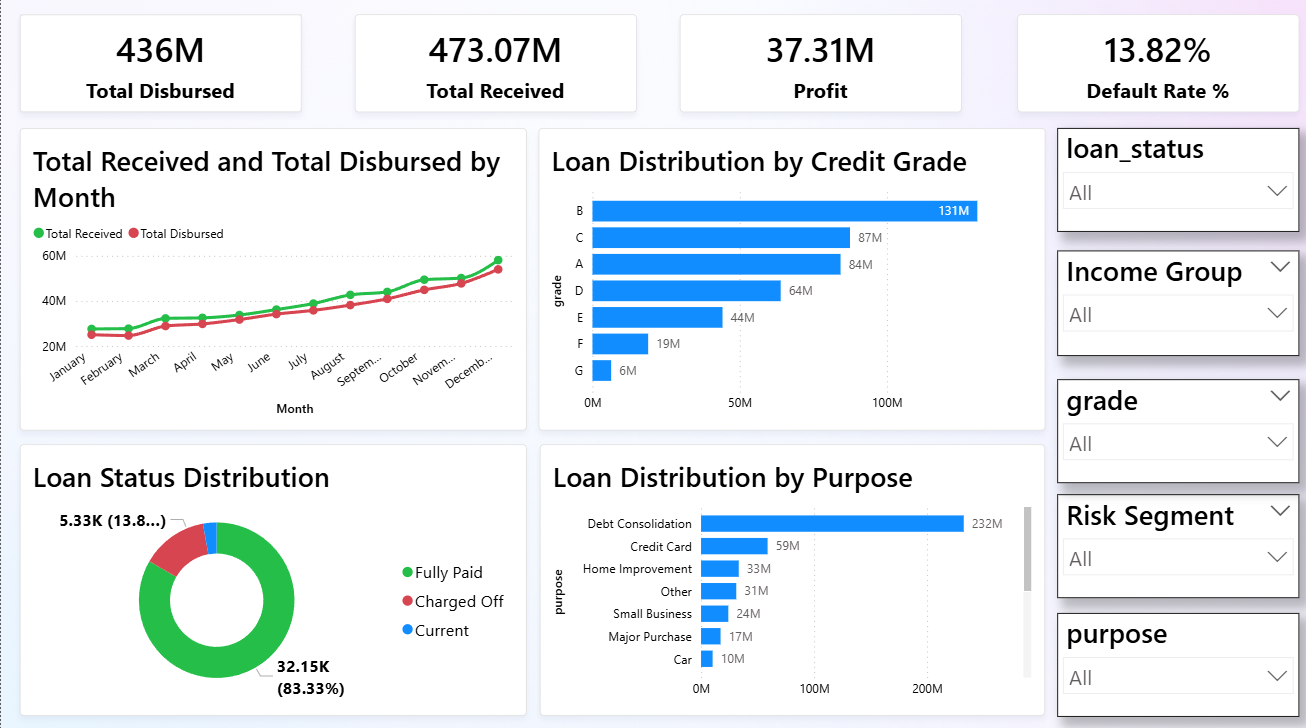

What the dashboard file says about the page in this screenshot:
{"tool":"powerbi","page":{"name":"Loan Portfolio Overview","canvas":[1280,720],"ordinal":0},"visuals":[{"type":"card","fields":{"Values":["public financial_loan.Total Disbursed"]},"box":[18.6,15.7,275.7,95.7],"z":0},{"type":"card","fields":{"Values":["public financial_loan.Total Received"]},"box":[345.7,15.7,275.7,95.7],"z":1000},{"type":"card","fields":{"Values":["public financial_loan.Profit"]},"box":[664.3,15.7,275.7,95.7],"z":2000},{"type":"card","fields":{"Values":["public financial_loan.Default Rate %"]},"box":[994.3,15.7,275.7,95.7],"z":3000},{"type":"lineChart","fields":{"Y":["public financial_loan.Total Received","public financial_loan.Total Disbursed"],"Category":["public financial_loan.issue_date.Variation.Date Hierarchy.Month"]},"box":[18.6,127.1,495.7,295.7],"z":4000},{"type":"donutChart","title":"Loan Status Distribution","fields":{"Y":["CountNonNull(public financial_loan.id)"],"Category":["public financial_loan.loan_status"]},"box":[18.6,437.1,495.7,265.7],"z":5000},{"type":"clusteredBarChart","title":"Loan Distribution by Credit Grade","fields":{"Category":["public financial_loan.grade"],"Y":["Sum(public financial_loan.loan_amount)"]},"box":[525.7,127.1,495.7,295.7],"z":6000},{"type":"clusteredBarChart","title":"Loan Distribution by Purpose","fields":{"Y":["Sum(public financial_loan.loan_amount)"],"Category":["public financial_loan.purpose"]},"box":[527.1,437.1,494.3,265.7],"z":7000},{"type":"slicer","fields":{"Values":["public financial_loan.loan_status"]},"box":[1032.9,127.1,237.1,101.4],"z":7001},{"type":"slicer","fields":{"Values":["public financial_loan.Income Group"]},"box":[1032.9,247.1,237.1,102.9],"z":7002},{"type":"slicer","fields":{"Values":["public financial_loan.Risk Segment"]},"box":[1032.9,485.7,237.1,101.4],"z":7003},{"type":"slicer","fields":{"Values":["public financial_loan.purpose"]},"box":[1032.9,601.4,237.1,101.4],"z":7004},{"type":"slicer","fields":{"Values":["public financial_loan.grade"]},"box":[1032.9,372.9,237.1,101.4],"z":7005}]}

Visuals, with their boxes in screenshot pixels (x1, y1, x2, y2), scaled from the page's 1280x720 canvas onto the 1306x728 screenshot:
card - public financial_loan.Total Disbursed: x1=19, y1=16, x2=300, y2=113
card - public financial_loan.Total Received: x1=353, y1=16, x2=634, y2=113
card - public financial_loan.Profit: x1=678, y1=16, x2=959, y2=113
card - public financial_loan.Default Rate %: x1=1014, y1=16, x2=1296, y2=113
lineChart - public financial_loan.Total Received x public financial_loan.Total Disbursed: x1=19, y1=129, x2=525, y2=427
"Loan Status Distribution" donutChart: x1=19, y1=442, x2=525, y2=711
"Loan Distribution by Credit Grade" clusteredBarChart: x1=536, y1=129, x2=1042, y2=427
"Loan Distribution by Purpose" clusteredBarChart: x1=538, y1=442, x2=1042, y2=711
slicer - public financial_loan.loan_status: x1=1054, y1=129, x2=1296, y2=231
slicer - public financial_loan.Income Group: x1=1054, y1=250, x2=1296, y2=354
slicer - public financial_loan.Risk Segment: x1=1054, y1=491, x2=1296, y2=594
slicer - public financial_loan.purpose: x1=1054, y1=608, x2=1296, y2=711
slicer - public financial_loan.grade: x1=1054, y1=377, x2=1296, y2=480
